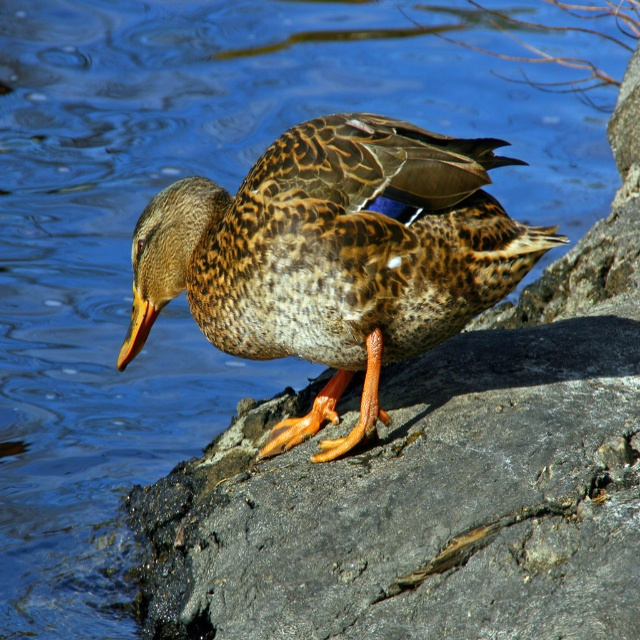Duck: (102, 80, 622, 454)
